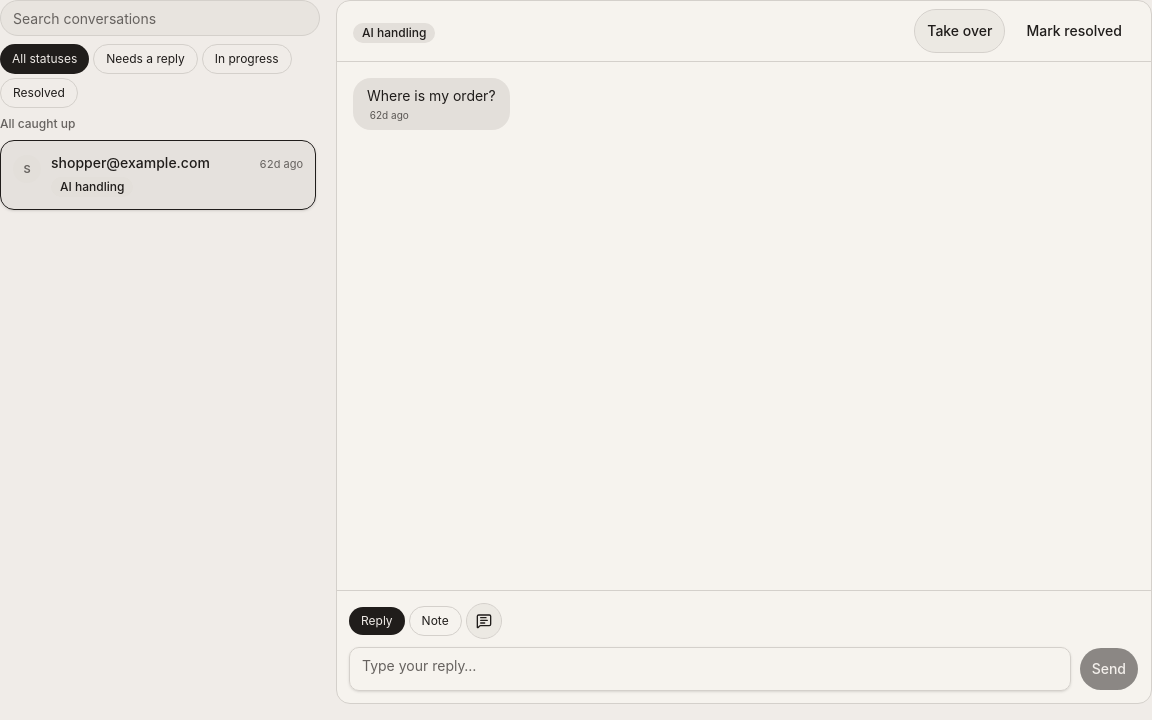
ConversationsPanel canned replies › lists only active replies in the insert list
expect the text "Where is my order?" is shown: met, box [367,87,496,104]
Click the button named "Saved replies" at {"x": 484, "y": 621}, box [466,603,502,639]
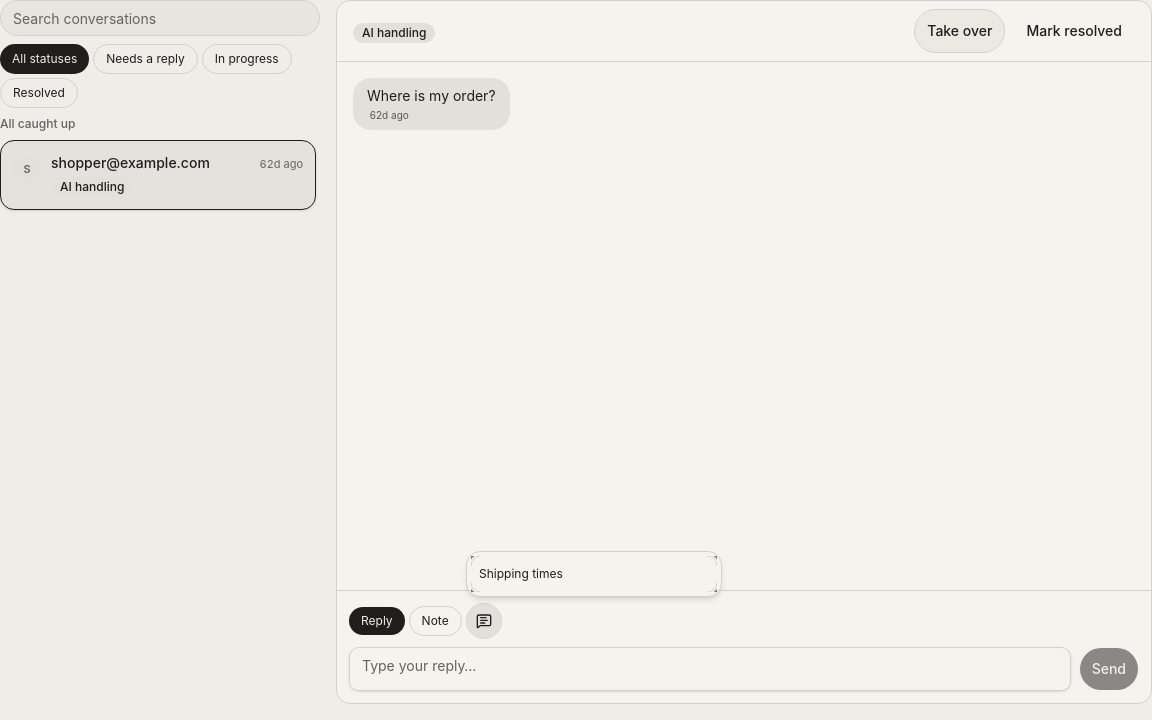
expect the button "Shipping times" is shown: met, box [471,556,717,592]
